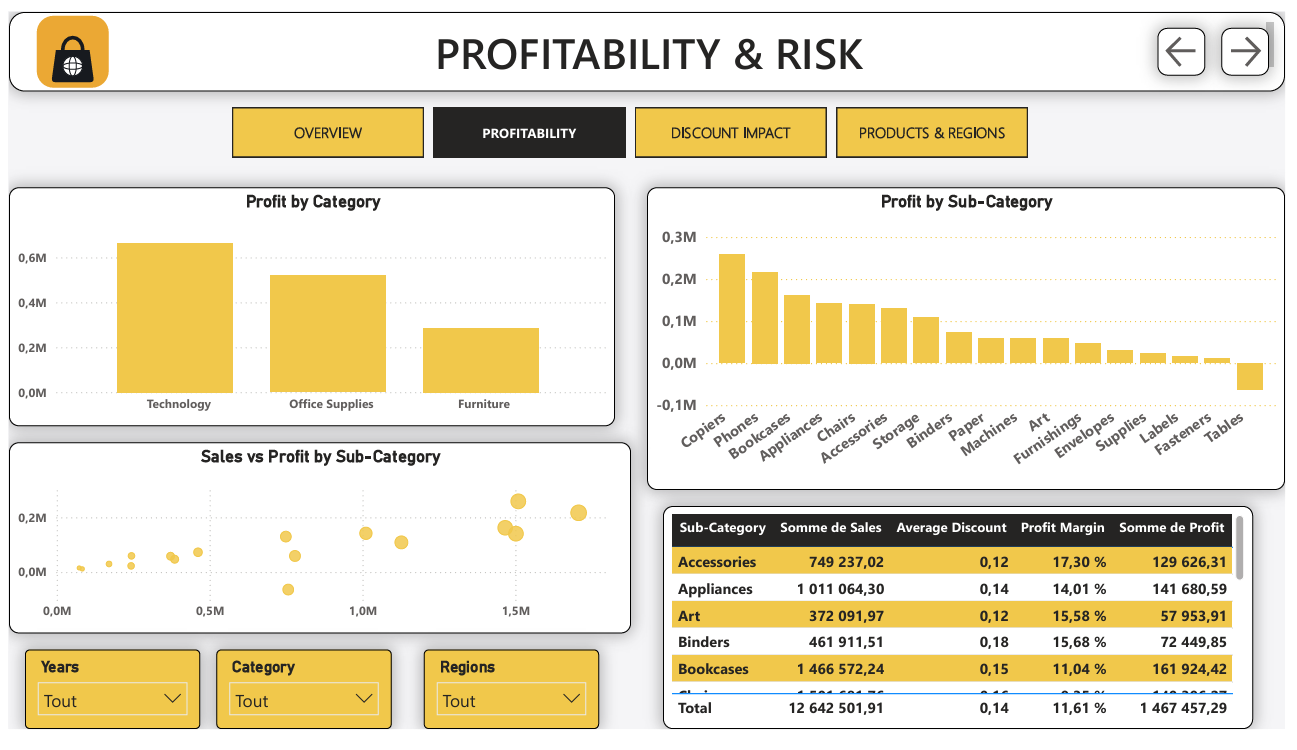

What the dashboard file says about the page in this screenshot:
{"tool":"powerbi","page":{"name":"PROFITABILITY","canvas":[1280,720],"ordinal":1},"visuals":[{"type":"textbox","box":[0,0,1280,80],"z":0},{"type":"clusteredColumnChart","title":"Profit by Category","fields":{"Category":["Global_Superstore2.Category"],"Y":["Sum(Global_Superstore2.Profit)"]},"box":[0,176,608,240],"z":1000},{"type":"clusteredColumnChart","title":"Profit by Sub-Category","fields":{"Category":["Global_Superstore2.Sub-Category"],"Y":["Sum(Global_Superstore2.Profit)"]},"box":[640,176,640,304],"z":2000},{"type":"scatterChart","title":"Sales vs Profit by Sub-Category","fields":{"Category":["Global_Superstore2.Sub-Category"],"Size":["Global_Superstore2.Total Sales"],"X":["Global_Superstore2.Total Sales"],"Y":["Global_Superstore2.Total Profit"]},"box":[0,432,624,192],"z":3000},{"type":"tableEx","fields":{"Values":["Global_Superstore2.Sub-Category","Sum(Global_Superstore2.Sales)","Global_Superstore2.Average Discount","Global_Superstore2.Profit Margin","Sum(Global_Superstore2.Profit)"]},"box":[656,496,592,224],"z":4000},{"type":"pageNavigator","box":[224,96,800,50],"z":5000},{"type":"slicer","fields":{"Values":["Global_Superstore2.Order Date.Variation.Hiérarchie de dates.Année"]},"box":[16,640,176,80],"z":6000},{"type":"slicer","fields":{"Values":["Global_Superstore2.Category"]},"box":[208,640,176,80],"z":7000},{"type":"slicer","fields":{"Values":["Global_Superstore2.Region"]},"box":[416,640,176,80],"z":8000},{"type":"image","box":[0,0,128,80],"z":9000},{"type":"actionButton","box":[1216,16,48,48],"z":9001},{"type":"actionButton","box":[1152,16,48,48],"z":9002}]}

Visuals, with their boxes in screenshot pixels (x1, y1, x2, y2), scaled from the page's 1280x720 canvas onto the 1297x750 screenshot:
textbox: region(0, 0, 1296, 83)
"Profit by Category" clusteredColumnChart: region(0, 183, 616, 433)
"Profit by Sub-Category" clusteredColumnChart: region(648, 183, 1296, 500)
"Sales vs Profit by Sub-Category" scatterChart: region(0, 450, 632, 650)
tableEx - Global_Superstore2.Sub-Category x Sum(Global_Superstore2.Sales): region(665, 517, 1265, 749)
pageNavigator: region(227, 100, 1038, 152)
slicer - Global_Superstore2.Order Date.Variation.Hiérarchie de dates.Année: region(16, 667, 195, 749)
slicer - Global_Superstore2.Category: region(211, 667, 389, 749)
slicer - Global_Superstore2.Region: region(422, 667, 600, 749)
image: region(0, 0, 130, 83)
actionButton: region(1232, 17, 1281, 67)
actionButton: region(1167, 17, 1216, 67)
